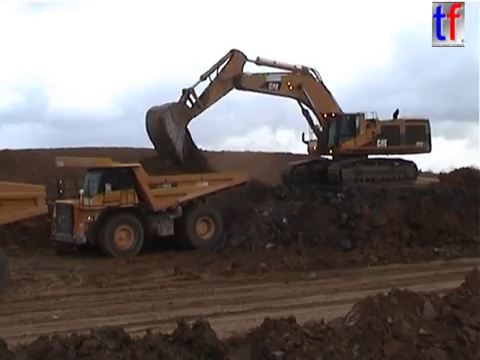excavator: (143, 47, 434, 190)
truck: (50, 154, 250, 259), (1, 176, 50, 295)
